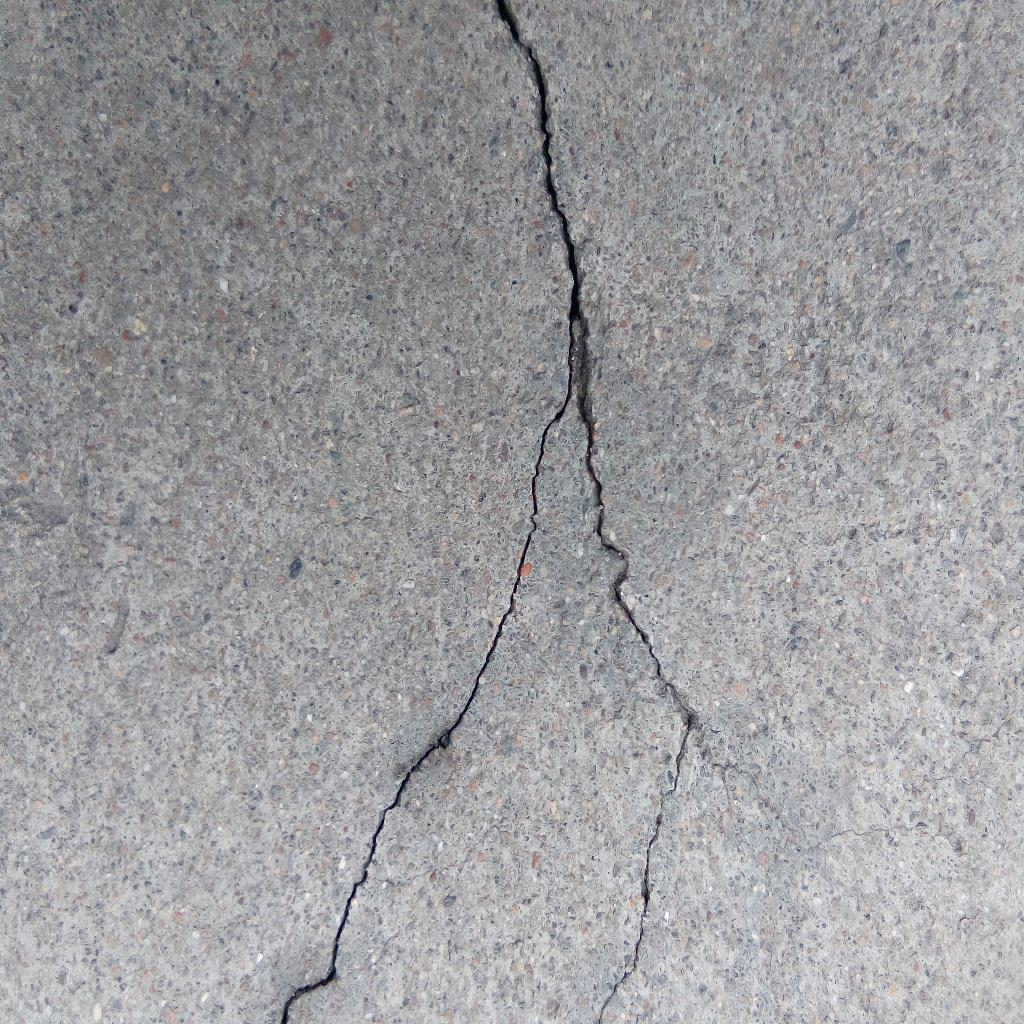Crack: (283, 322, 575, 1024), (576, 322, 692, 1024), (495, 1, 582, 321)
